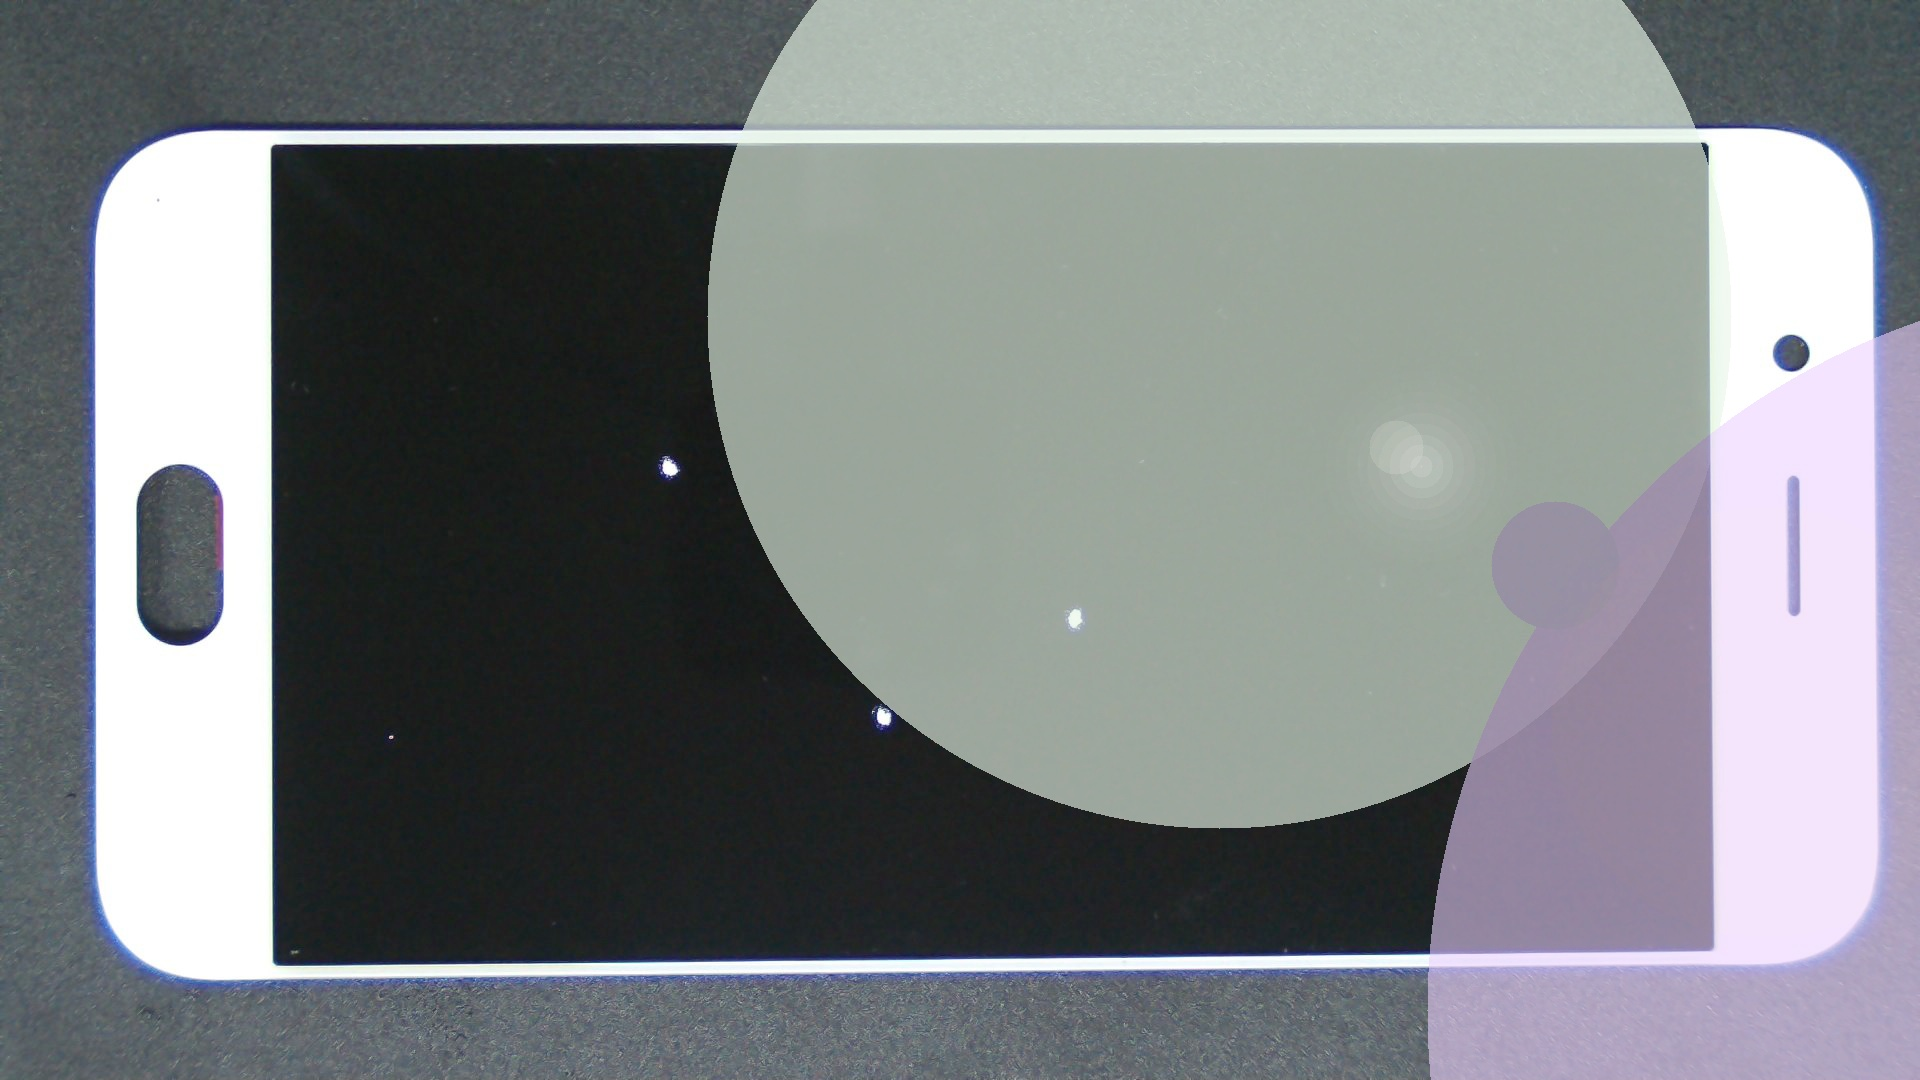oil: (538, 301, 1614, 905), (440, 351, 1321, 1055), (334, 227, 998, 682)
